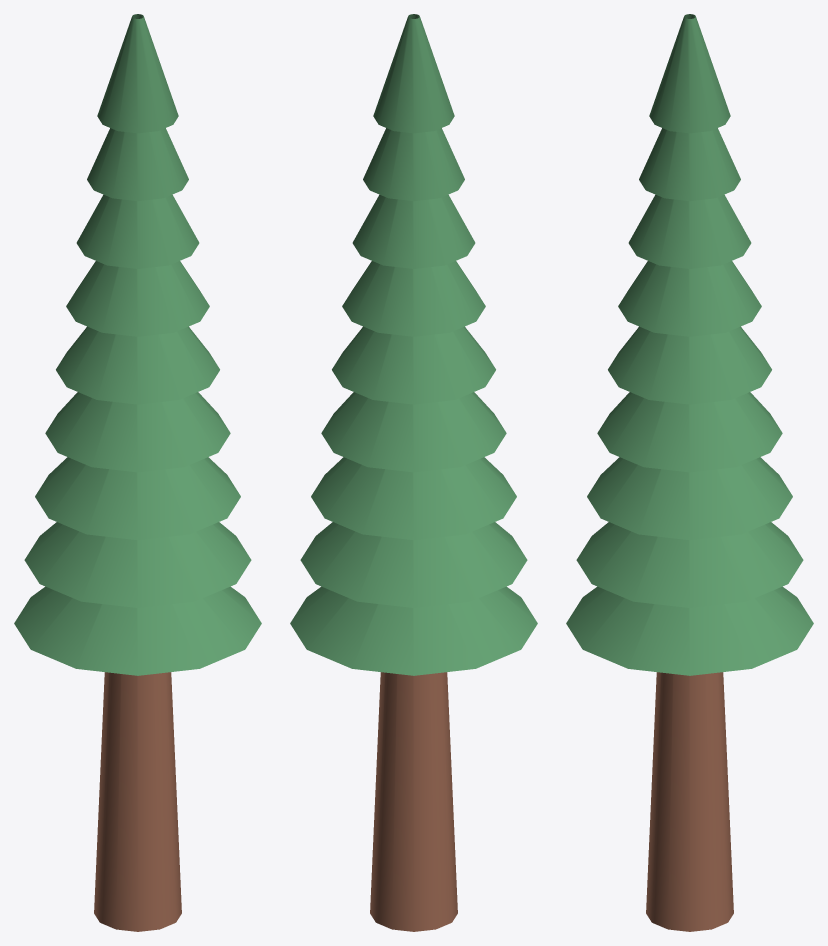
File: giant_redwood.glb
3 renders of one model, left to right at view 1: azimuth 30°, elevation 25°; view 2: azimuth 150°, elevation 25°; view 3: azimuth 270°, elevation 25°, orthographic.
Visible parts, largest first — view 1: RootNode; view 2: RootNode; view 3: RootNode.
Boxes of the visible parts, x1,y1,x2,y2 form: RootNode: [14, 14, 261, 931]; RootNode: [290, 14, 537, 931]; RootNode: [566, 14, 813, 931].
Size of the model in its own units: 12.4 by 49.5 by 12.4.
